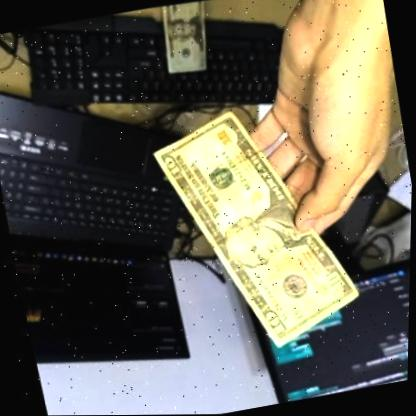ten-front: (133, 85, 377, 372)
twenty-front: (150, 0, 225, 79)
